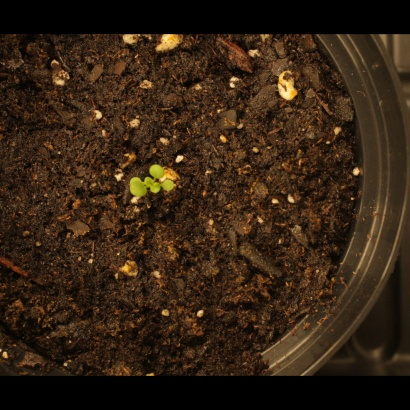leaf: (123, 177, 146, 200), (161, 178, 184, 201), (147, 155, 170, 178), (139, 180, 162, 203)
